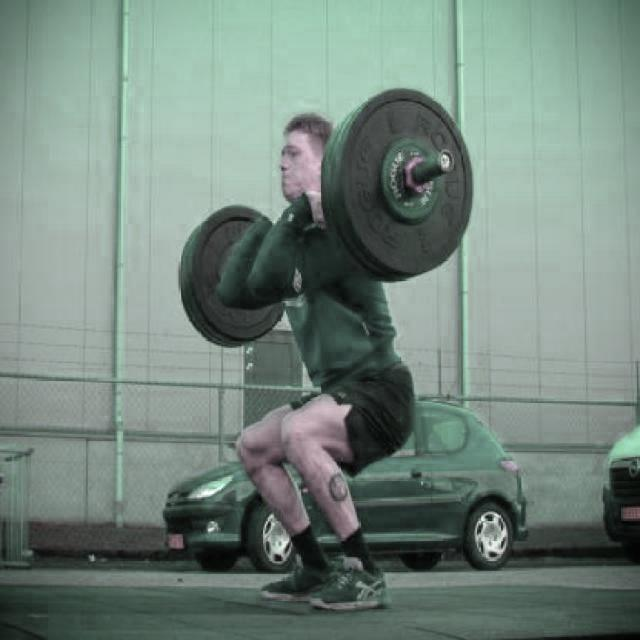barbell: (317, 83, 479, 288)
